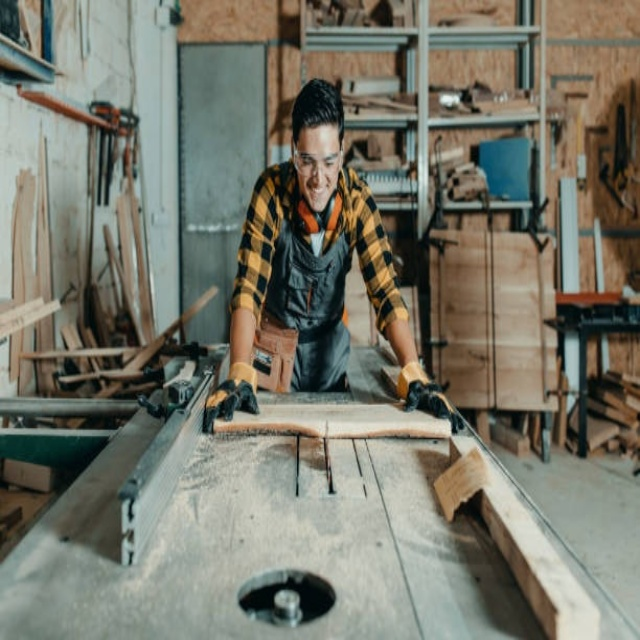Gafas: (294, 141, 342, 178)
Guantes: (405, 380, 464, 433), (202, 376, 258, 431)
Sin_mascara: (306, 180, 333, 210)
